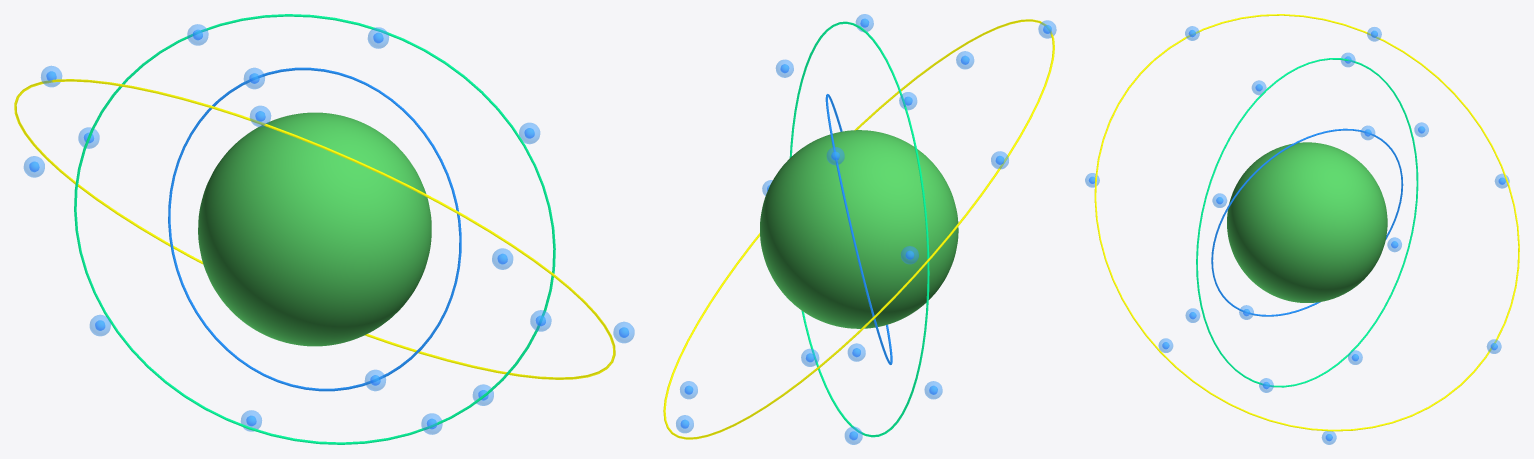
3 renders of one model, left to right at view 1: azimuth 30°, elevation 25°; view 2: azimuth 150°, elevation 25°; view 3: azimuth 270°, elevation 25°, orthographic. The views are drawn at different scales.
Visible parts, largest first — view 1: Cl, object 7, object 24, object 2; view 2: Cl, object 24, object 7, object 2; view 3: Cl, object 24, object 7, object 2.
Part boxes in pixels (x1,y1,x2,y2): Cl: [198, 112, 431, 346]; object 7: [74, 14, 555, 444]; object 24: [14, 79, 615, 379]; object 2: [168, 67, 461, 391]; Cl: [760, 130, 958, 328]; object 24: [663, 19, 1054, 439]; object 7: [789, 21, 929, 437]; object 2: [825, 94, 892, 364]; Cl: [1227, 142, 1387, 302]; object 24: [1094, 14, 1519, 431]; object 7: [1196, 58, 1418, 387]; object 2: [1211, 128, 1403, 316].
Size of the model in its own units: 3.77 by 3.7 by 4.67.
